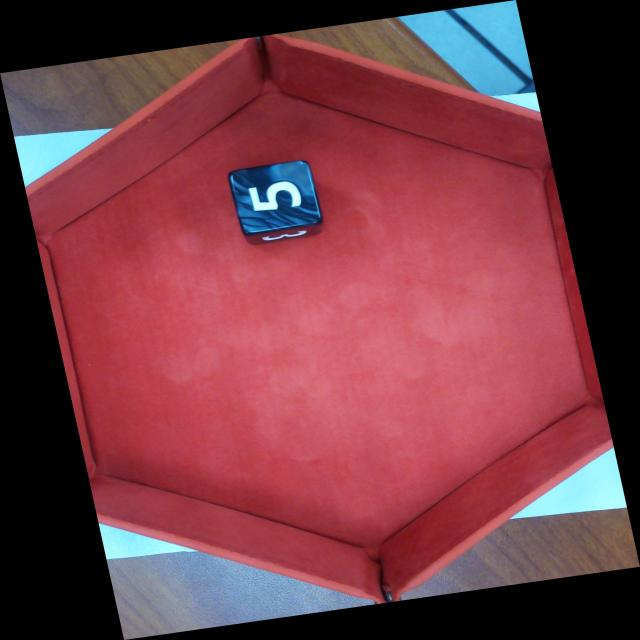dice: (225, 158, 325, 238)
